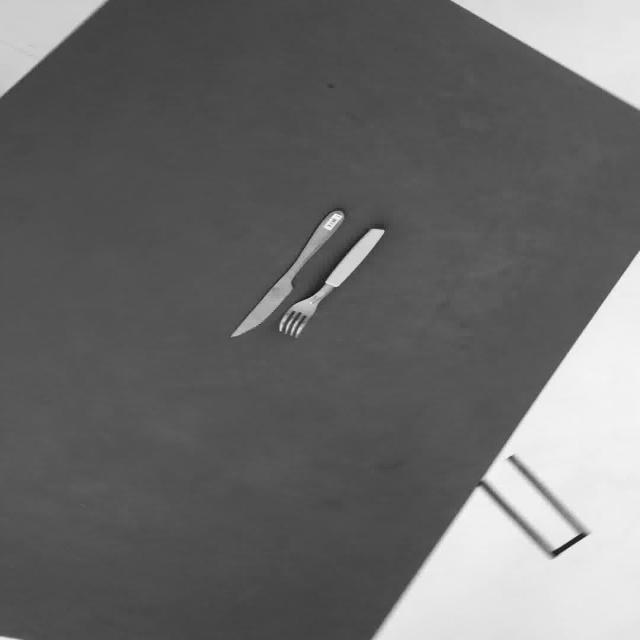fork: (276, 227, 385, 338)
knife fork: (228, 209, 344, 338)
